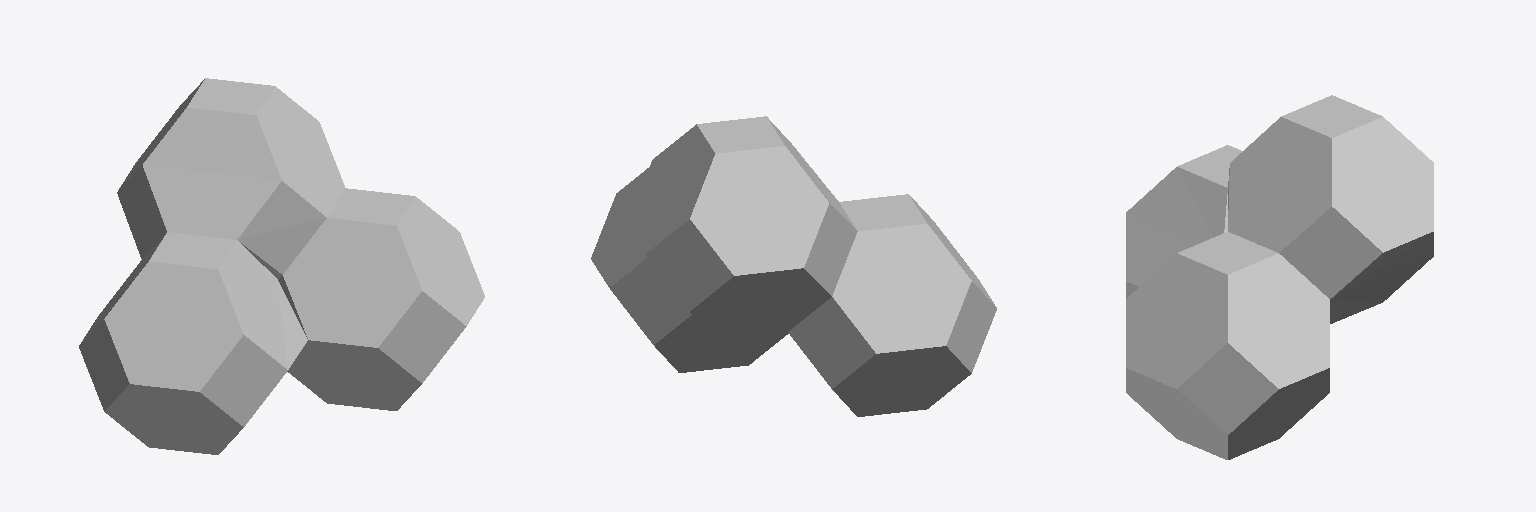
File: fcc3.1.obj
3 renders of one model, left to right at view 1: azimuth 30°, elevation 25°; view 2: azimuth 150°, elevation 25°; view 3: azimuth 270°, elevation 25°, orthographic.
Visible parts, largest first — view 1: Obj1_Mesh1, Obj3_Mesh3, Obj2_Mesh2; view 2: Obj2_Mesh2, Obj1_Mesh1, Obj3_Mesh3; view 3: Obj3_Mesh3, Obj2_Mesh2, Obj1_Mesh1.
Boxes of the visible parts, x1=… form: Obj1_Mesh1: x1=79, y1=232, x2=307, y2=454; Obj3_Mesh3: x1=278, y1=188, x2=484, y2=410; Obj2_Mesh2: x1=117, y1=78, x2=345, y2=279; Obj2_Mesh2: x1=627, y1=116, x2=857, y2=339; Obj1_Mesh1: x1=788, y1=194, x2=996, y2=416; Obj3_Mesh3: x1=591, y1=168, x2=788, y2=372; Obj3_Mesh3: x1=1126, y1=232, x2=1329, y2=459; Obj2_Mesh2: x1=1228, y1=95, x2=1433, y2=323; Obj1_Mesh1: x1=1126, y1=145, x2=1242, y2=298.
Bounding box in the file's own units: 2.43 × 1.83 × 1.83.